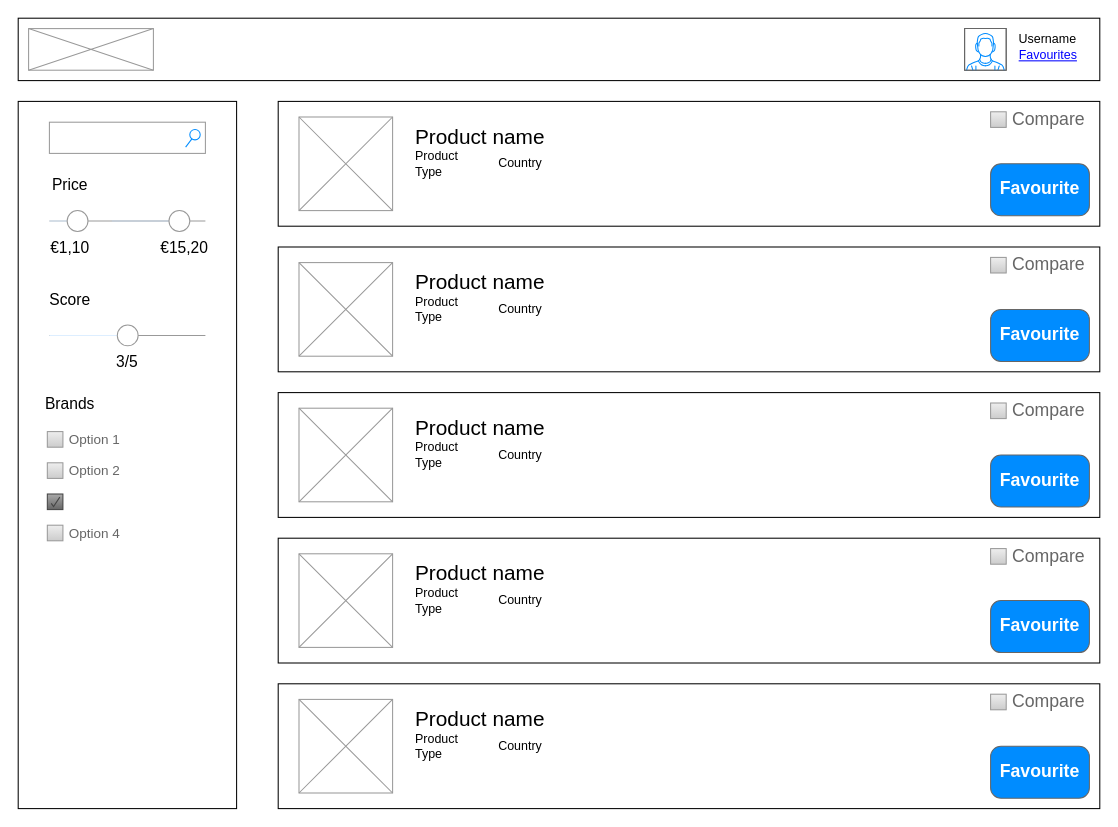
Some shapes in this 1118 by 827 pixel diagram are drawn without their labels. The shapes that lost their labels are listed below. From the top down, each one's centre as x and y in pixels, then its label:
point 126,137: Search
point 54,501: Option 3
